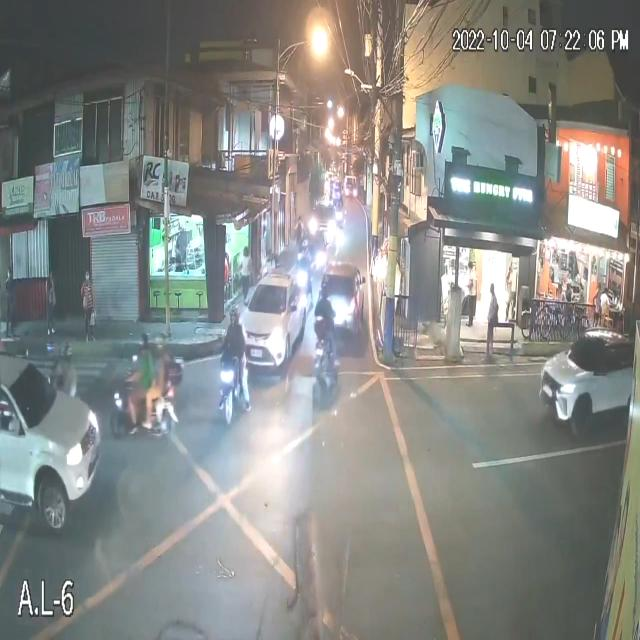Full-Faced: (228, 302, 243, 328), (318, 282, 332, 302)
